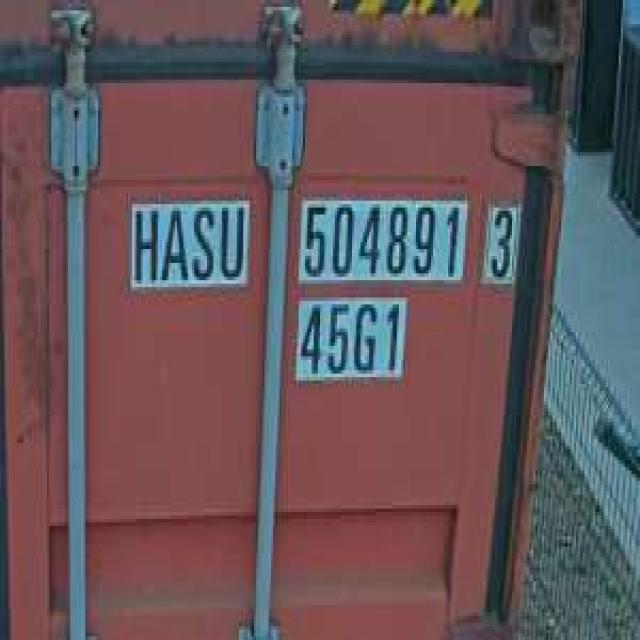dv: (478, 194, 523, 287)
owner: (128, 197, 250, 287)
serial: (294, 190, 468, 284)
size: (292, 294, 403, 381)
